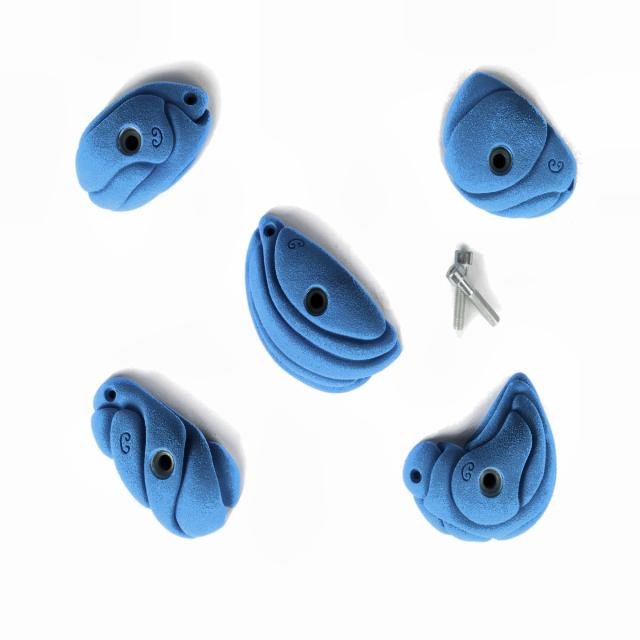Hold: (240, 213, 402, 394), (408, 373, 559, 549), (90, 374, 244, 540), (447, 66, 573, 222), (75, 86, 210, 210)
